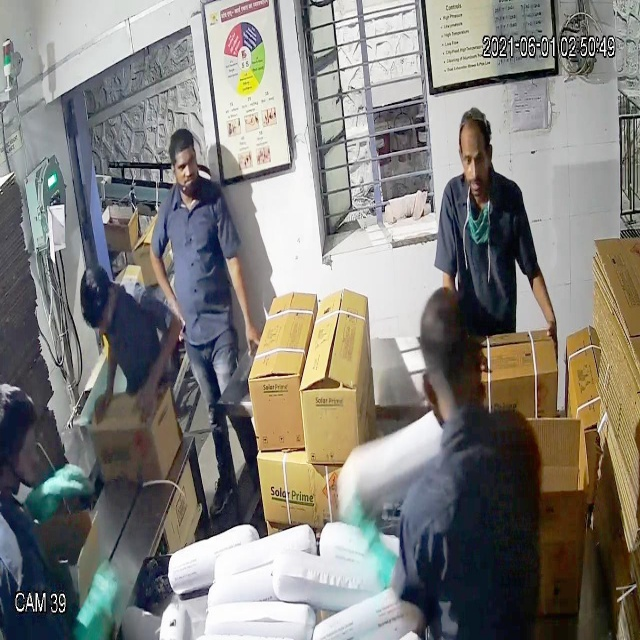Sin_gafas: (454, 140, 496, 176), (169, 149, 204, 181)
